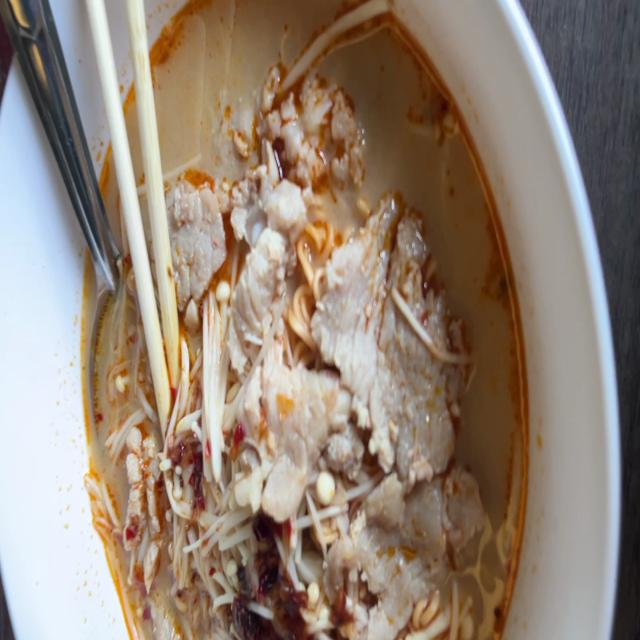noodle: (81, 0, 530, 640)
